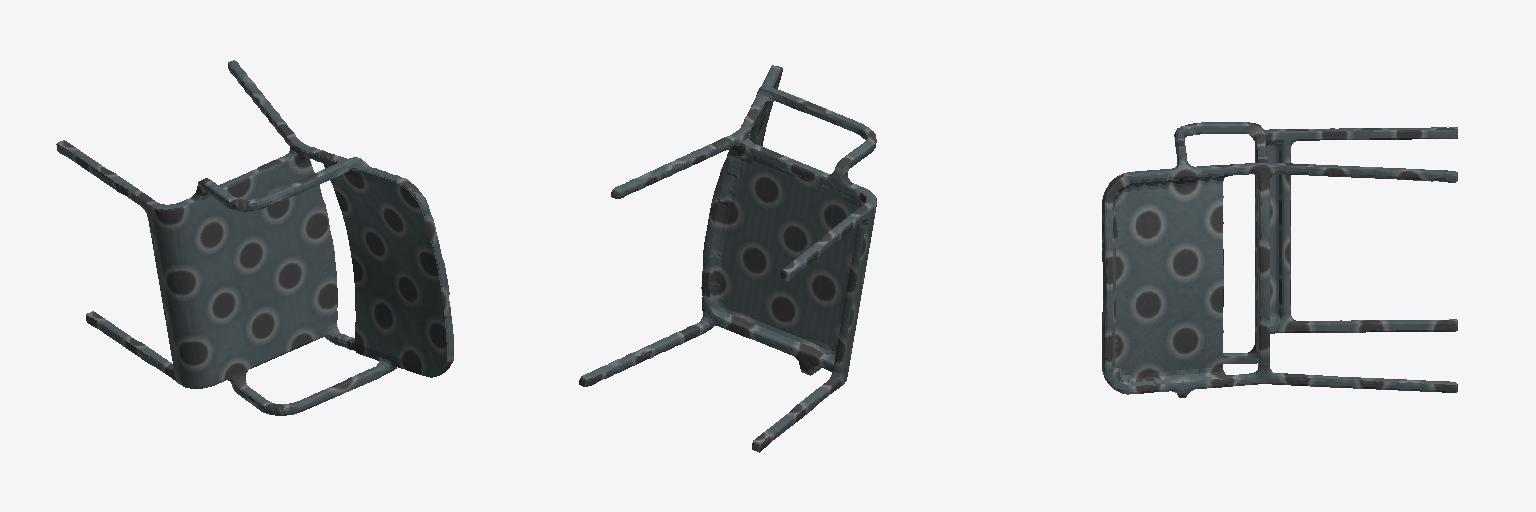
3 renders of one model, left to right at view 1: azimuth 30°, elevation 25°; view 2: azimuth 150°, elevation 25°; view 3: azimuth 270°, elevation 25°, orthographic.
Bounding box in the file's own units: 0.6131 × 0.6412 × 0.8535.
Materials: 1 (1 with a texture image).